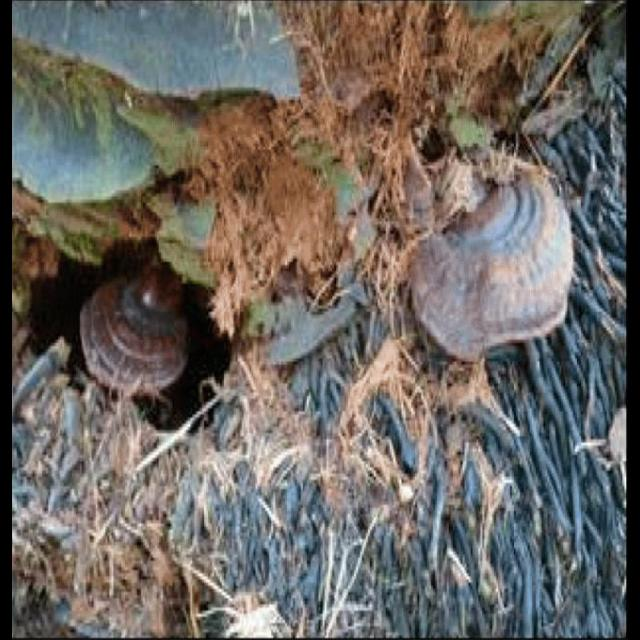ganoderma: (407, 166, 575, 367), (77, 267, 197, 400)
